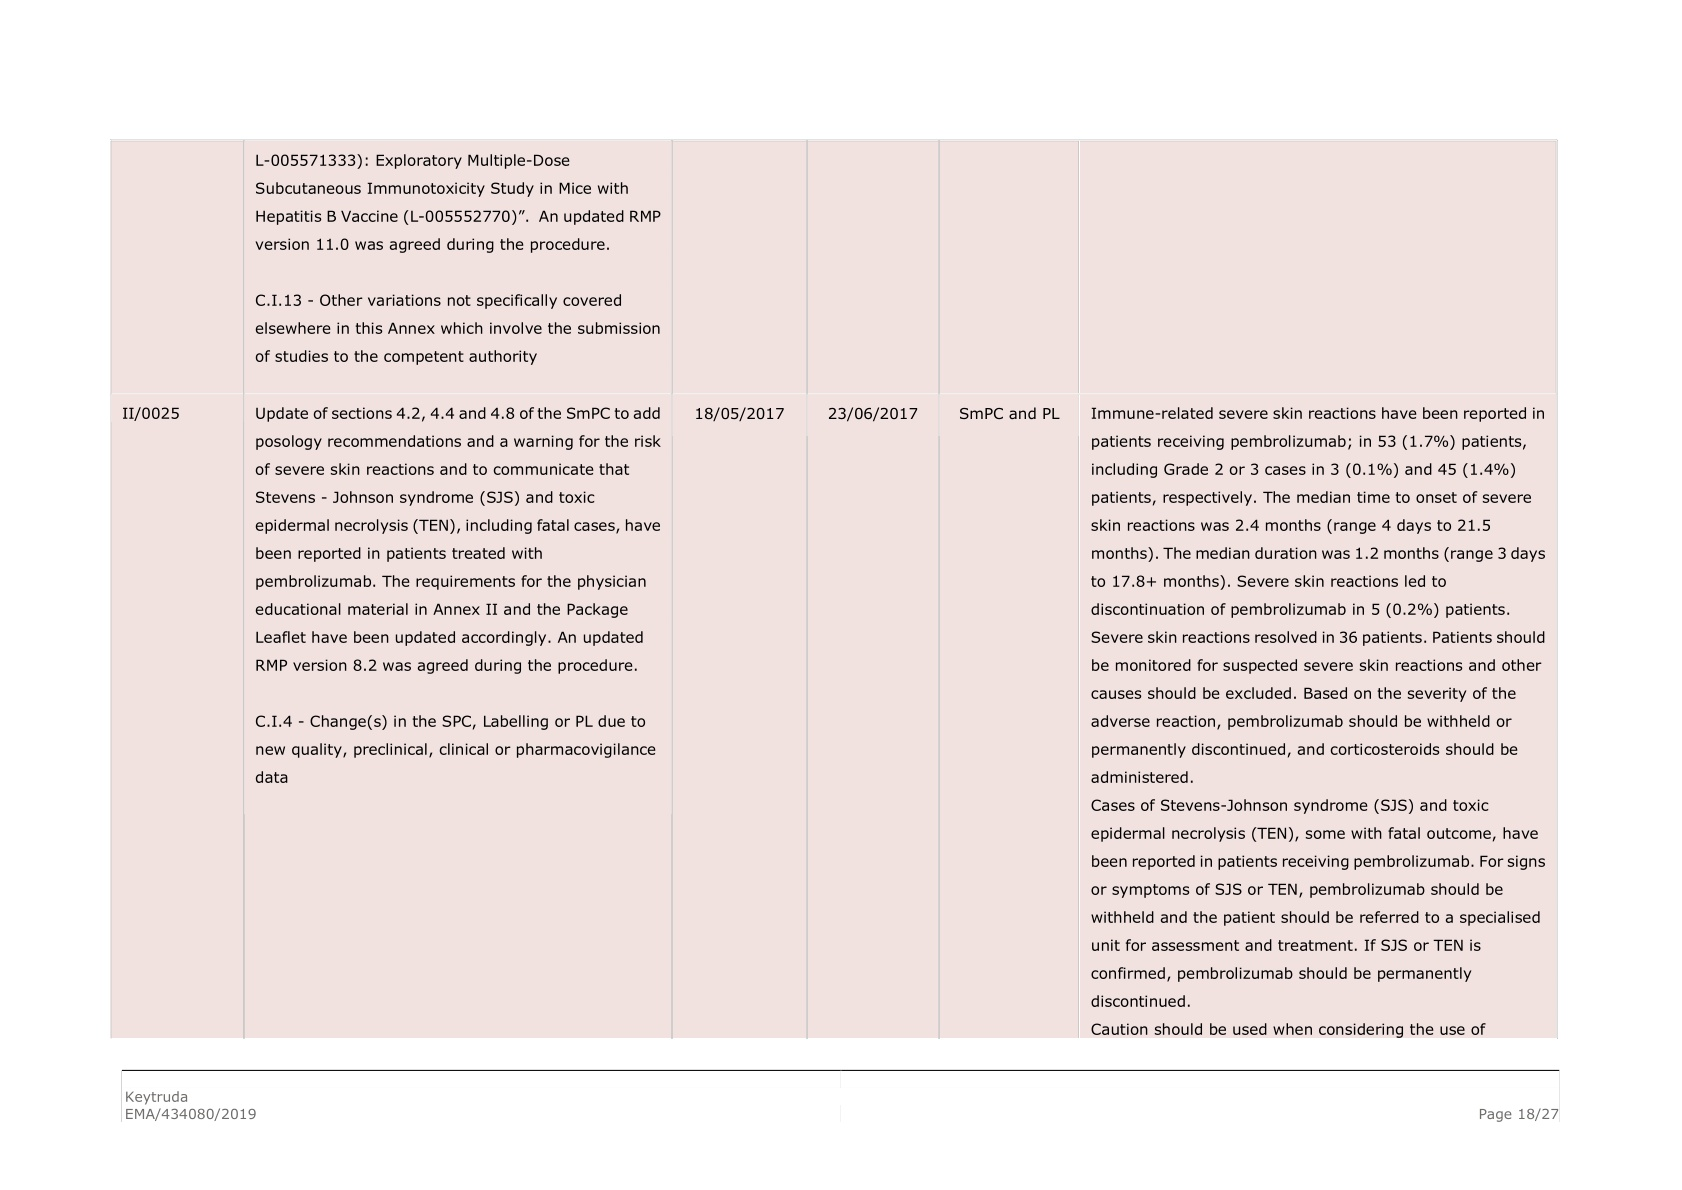full_lined: (108, 137, 1558, 1039)
